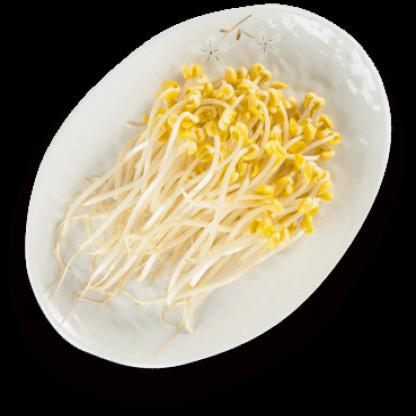bean sprouts: (99, 55, 335, 290)
